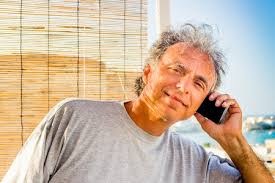white_male: (143, 38, 206, 127)
